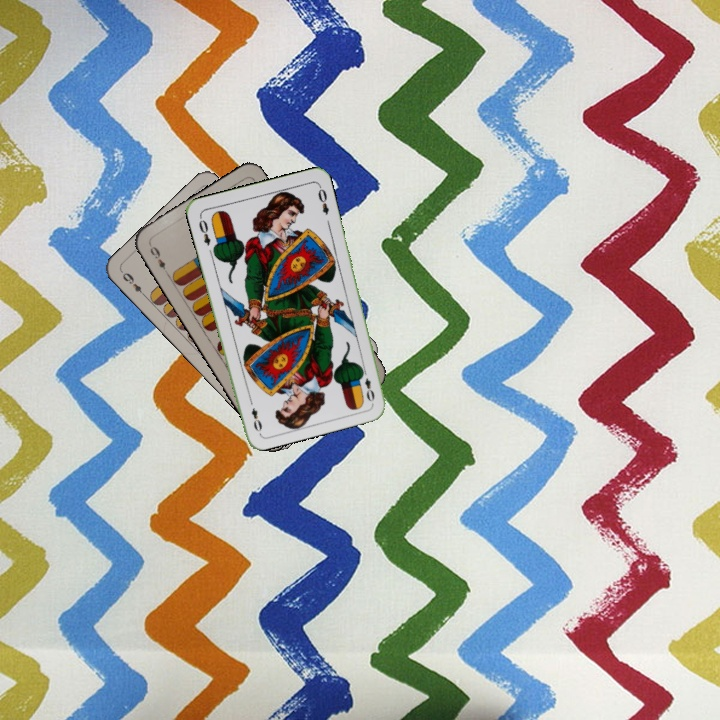E9: (117, 267, 149, 300), (145, 240, 171, 277)
EO: (357, 365, 377, 404), (195, 215, 213, 248)
